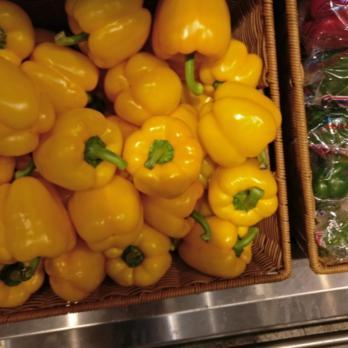Capsicum: (0, 3, 268, 303)
